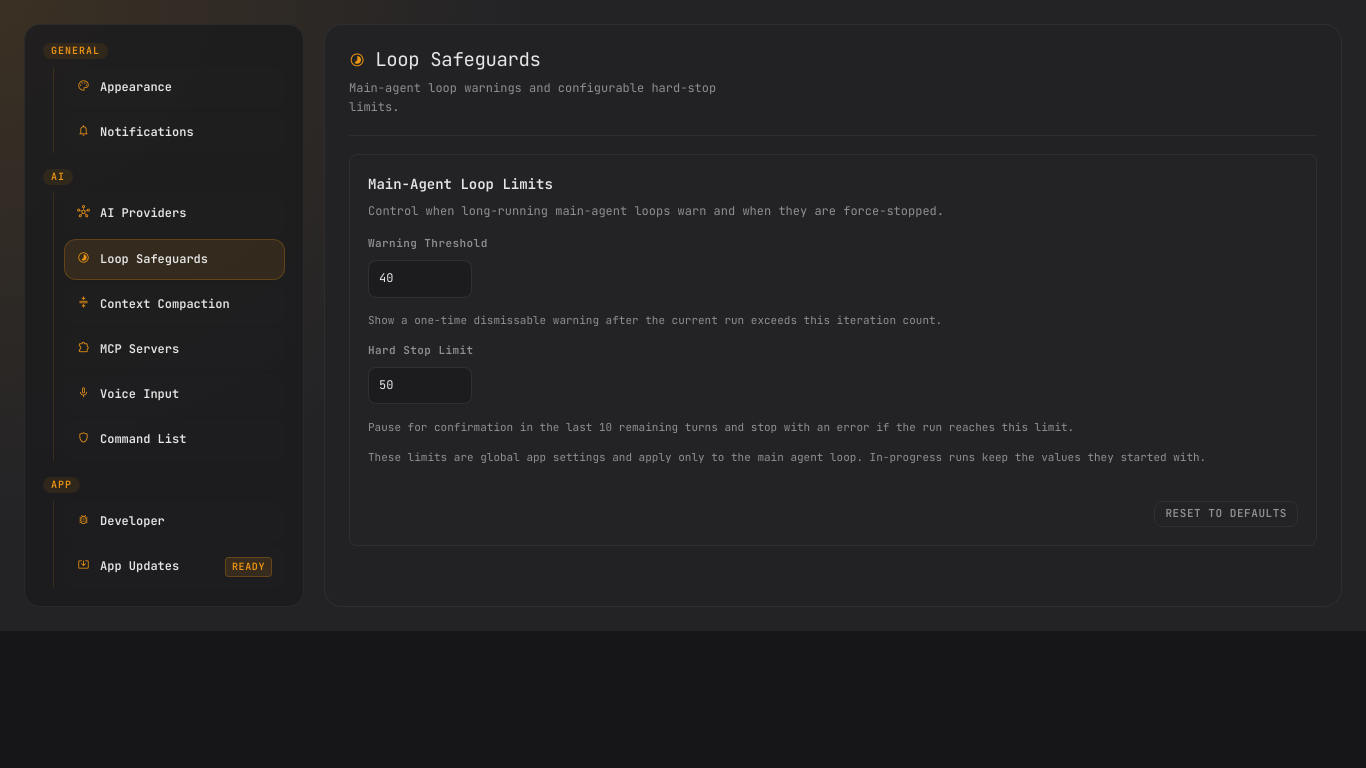
Scenario: SettingsPage › rejects invalid loop safeguard pairs on blur
Expected: the heading "Loop Safeguards" is shown, [375, 49, 541, 71]
Replace the text in the number field labelled "Warning Threshold" with "90". click: (420, 279)
box: [369, 261, 471, 297]
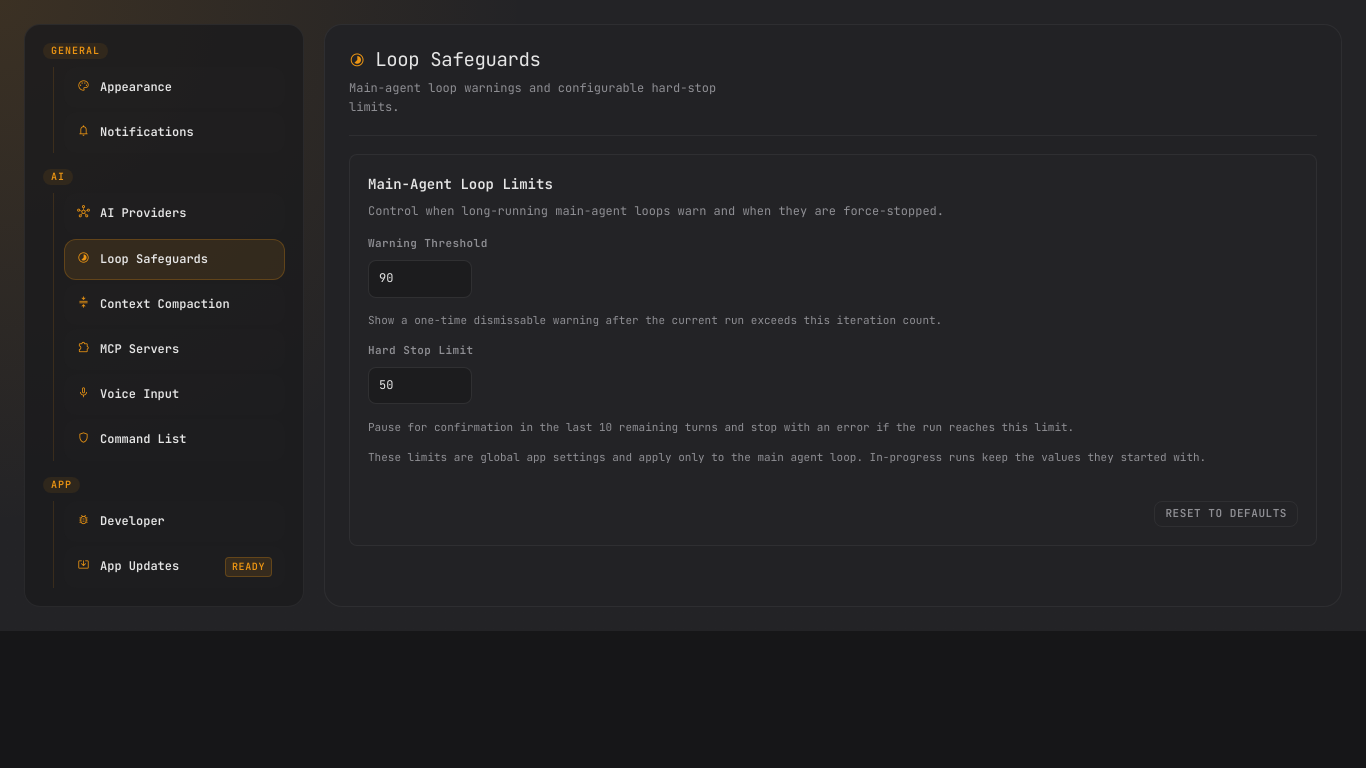
Replace the text in the number field labelled "Hard Stop Limit" with "80". click: (420, 386)
box: [369, 368, 471, 404]
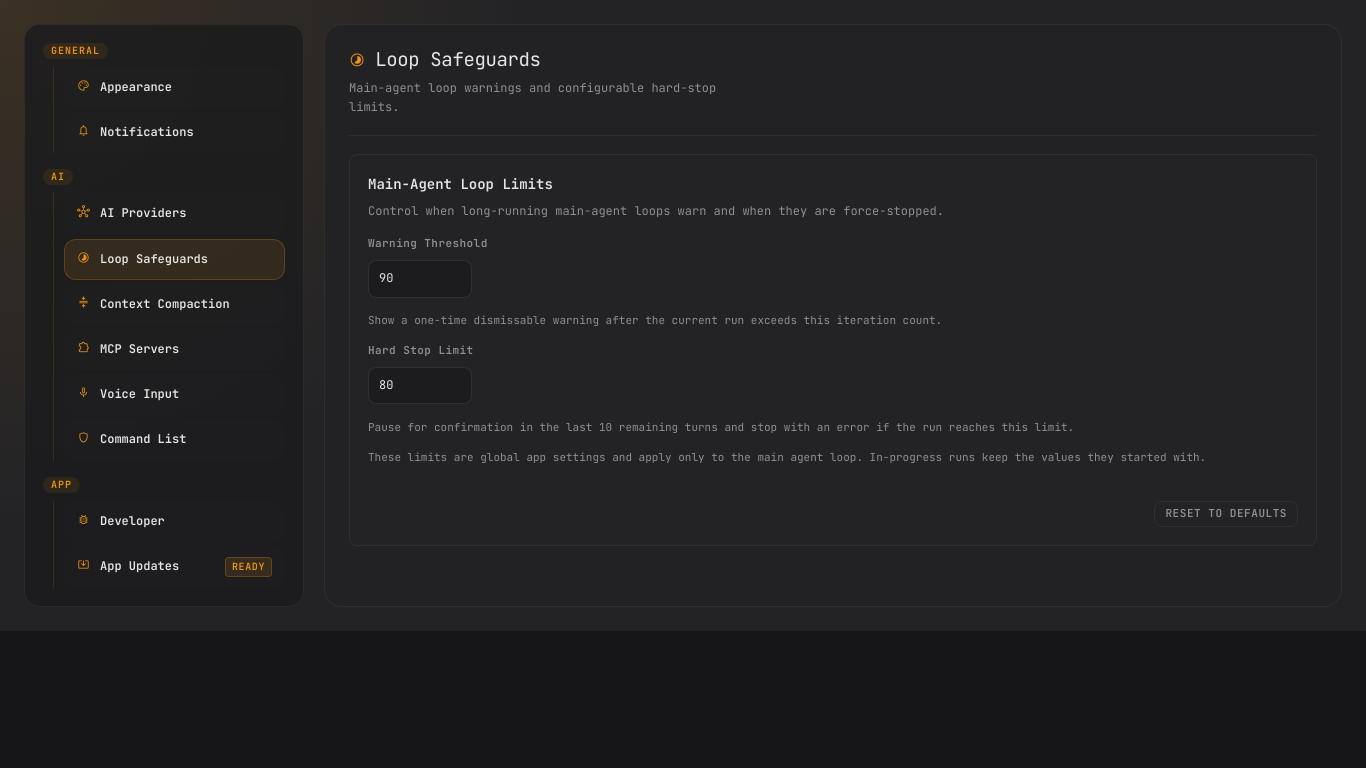
Leave the number field labelled "Hard Stop Limit", box [369, 368, 471, 404]
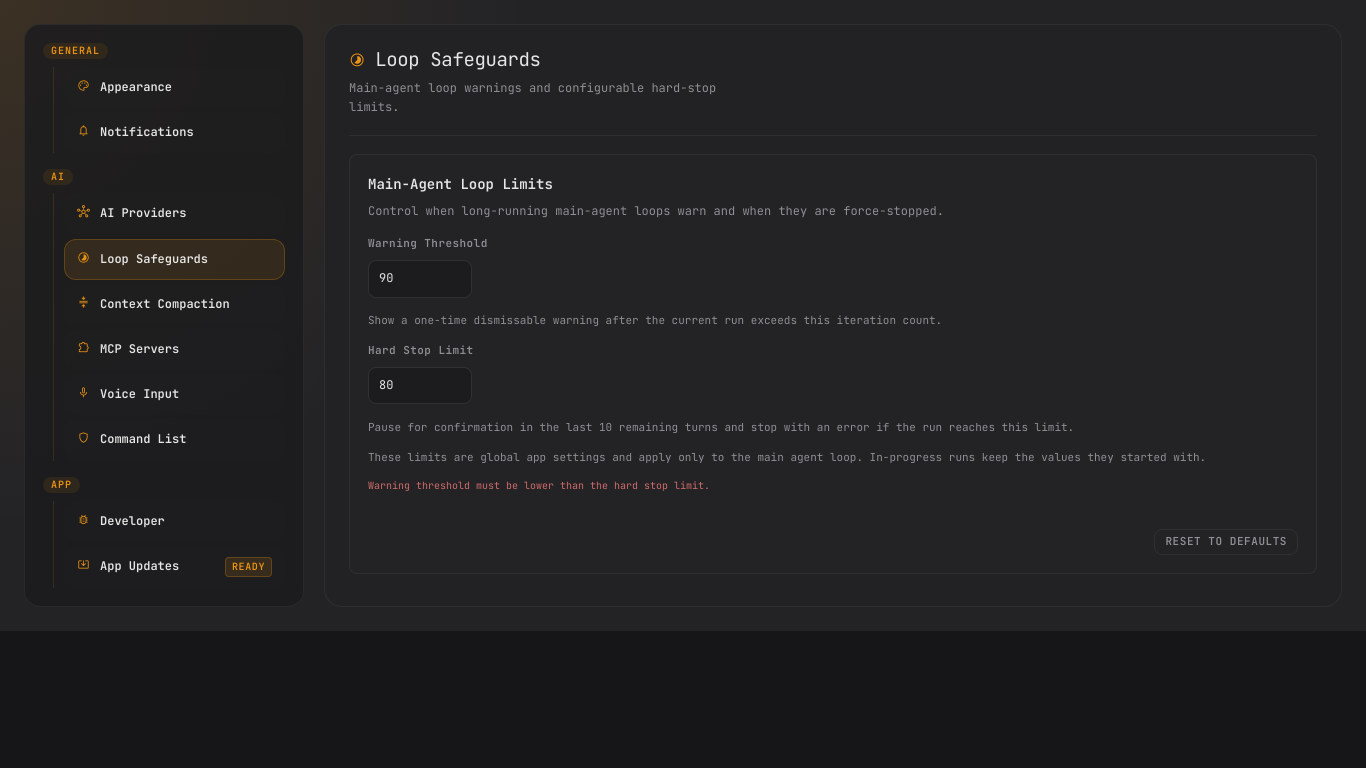
Expected: the text "Warning threshold must be lower than the hard stop limit." is shown, [368, 479, 710, 492]
